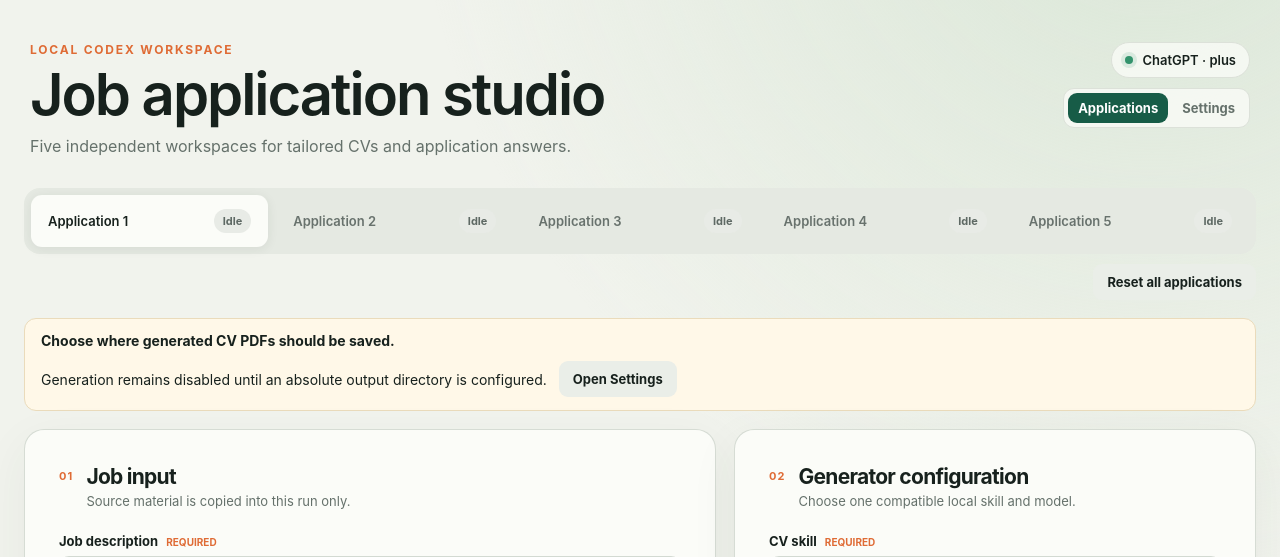
Test: resets every application tab after confirmation
Expected: the text "ChatGPT · plus" is shown, x1=1111 y1=42 x2=1250 y2=78
Click the button "Application 3 Idle". click: [640, 221]
box: x1=521 y1=195 x2=759 y2=247
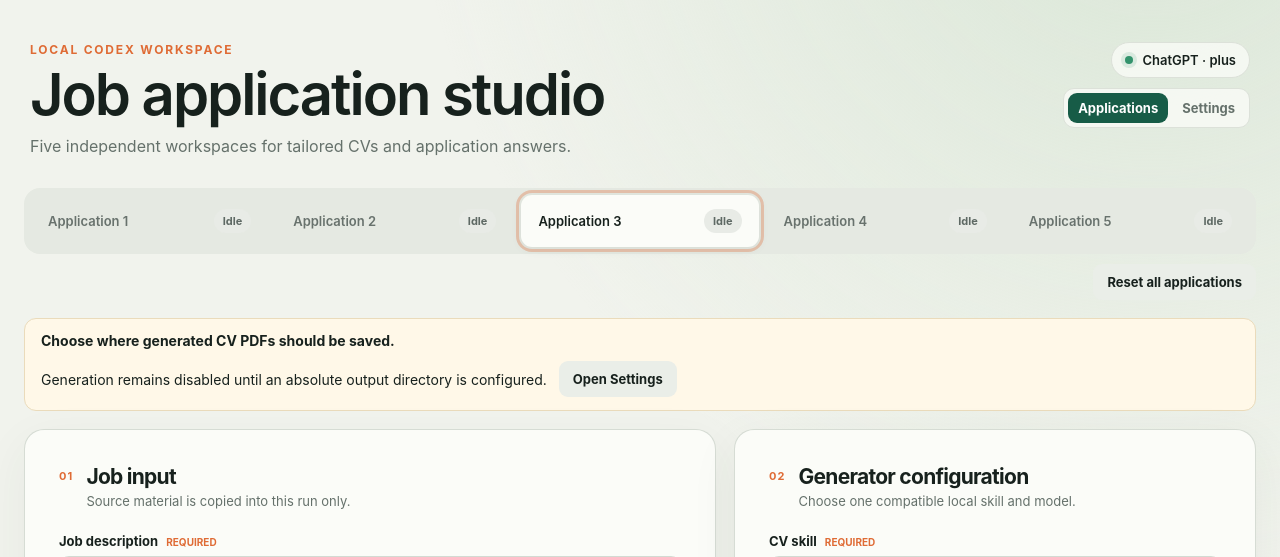
Click the button "Reset all applications". click: [1175, 282]
box: x1=1093 y1=264 x2=1256 y2=300
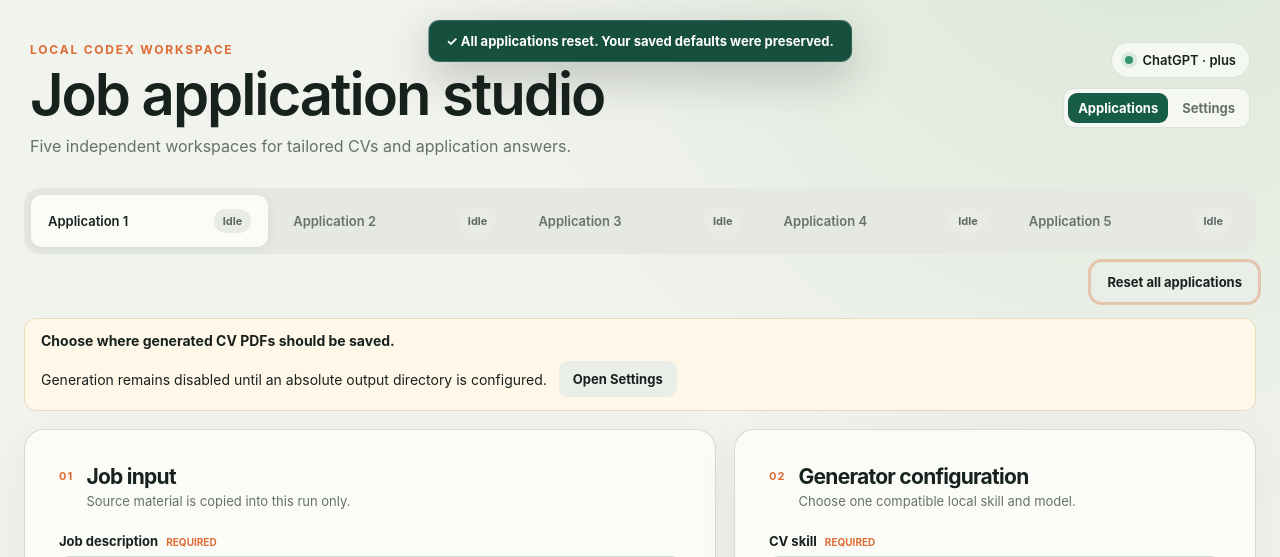
Result: the text "✓ All applications reset. Your saved defaults were preserved." is shown at x1=428 y1=20 x2=852 y2=62
